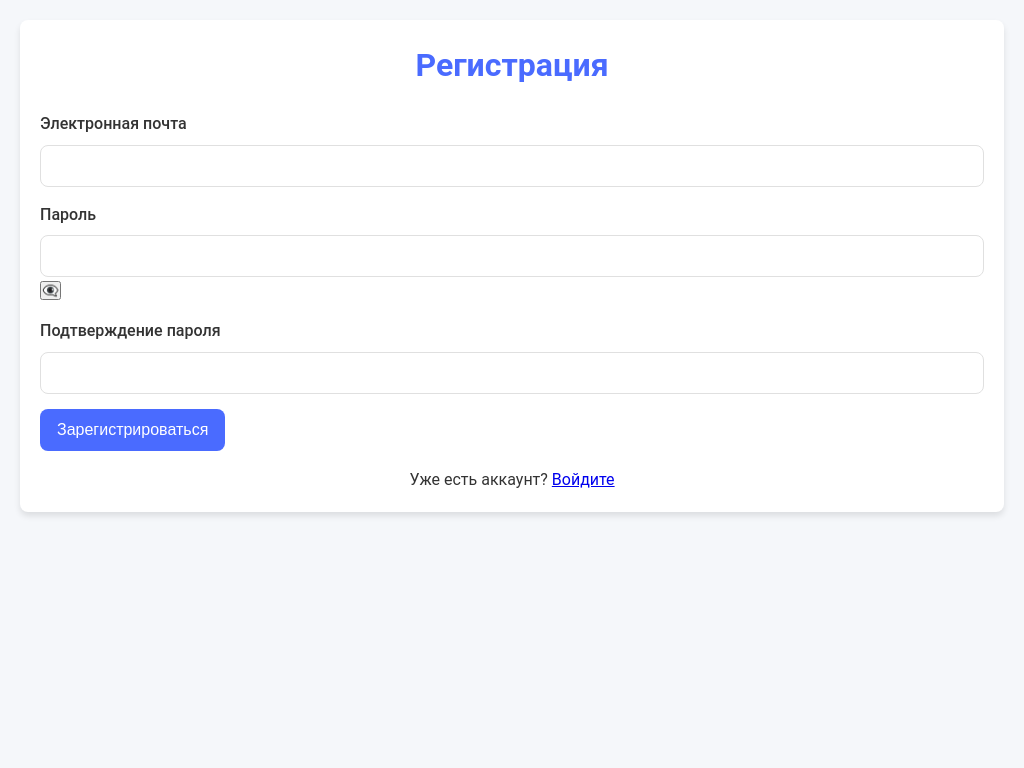
Test: Register Component › проверяет минимальную длину пароля
The image size is (1024, 768).
Заполняем Email и короткий пароль
Type "test@example.com" into the field labelled "Электронная почта". click: [512, 166]
box: [40,145,984,187]
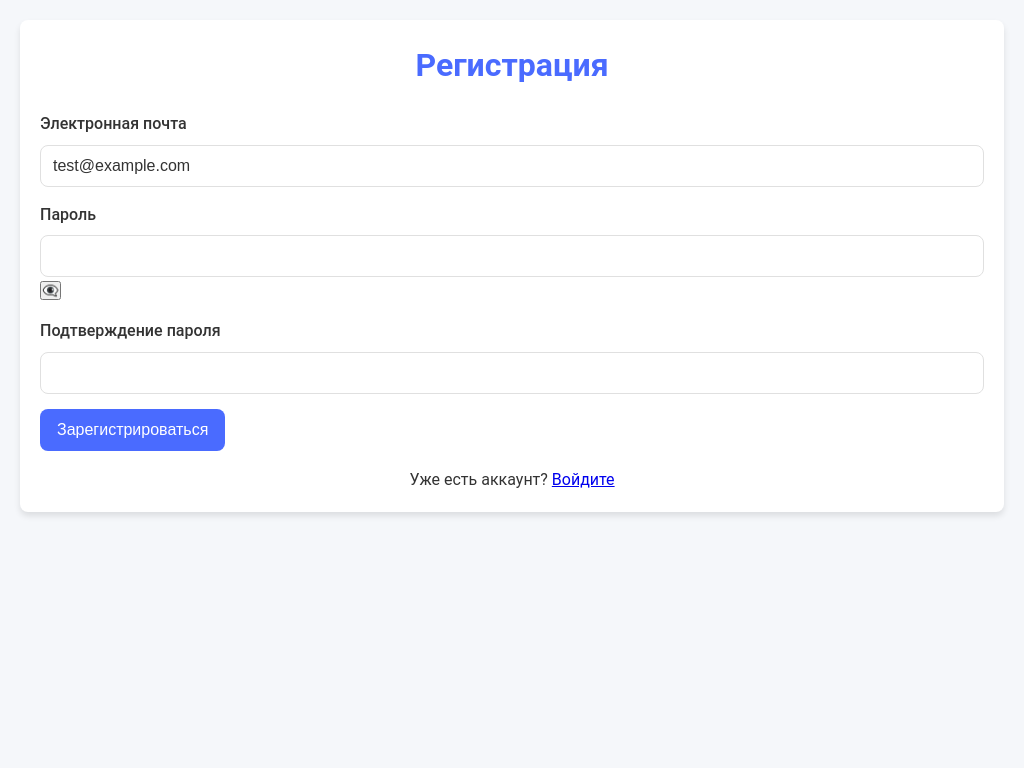
Type "123" into the password field labelled "Пароль". click: [512, 256]
box: [40,235,984,277]
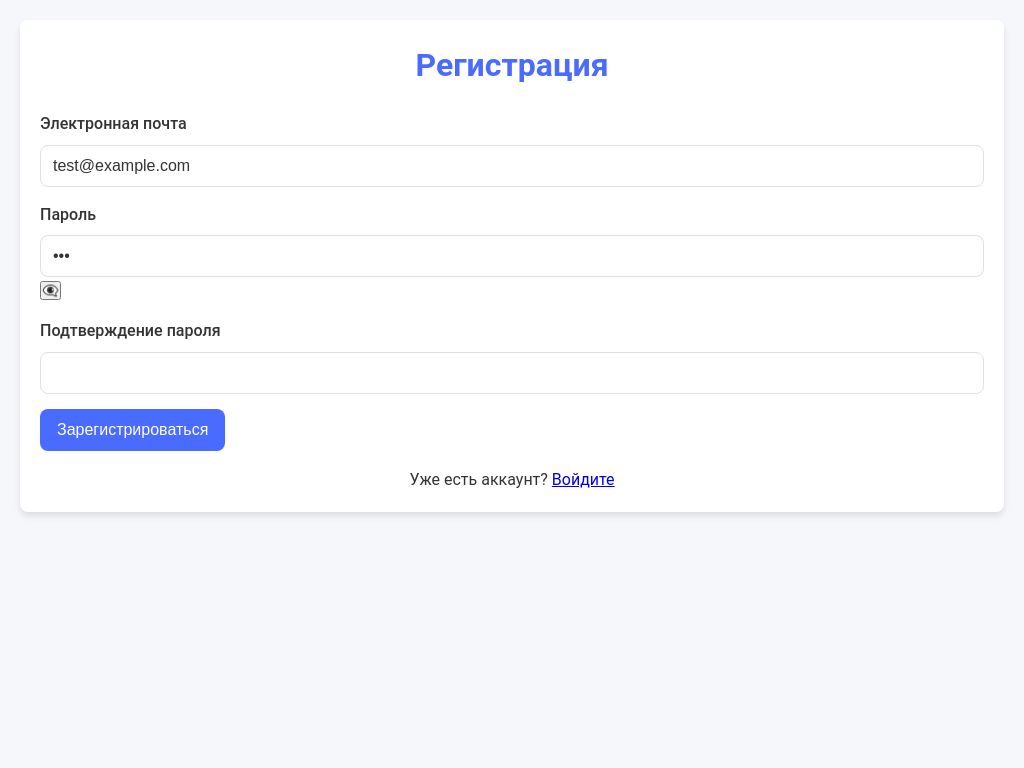
Type "123" into the password field labelled "Подтверждение пароля". click: [512, 373]
box: [40,352,984,394]
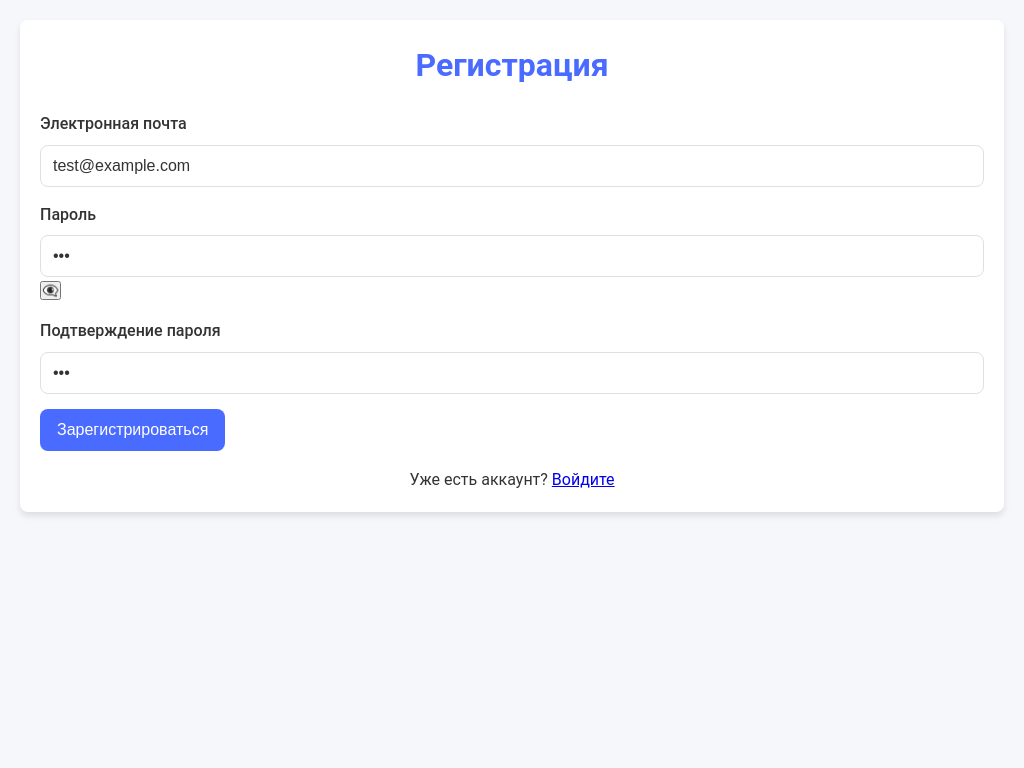
Отправляем форму
Click the button "Зарегистрироваться". click: [133, 430]
box: [40,409,225,451]
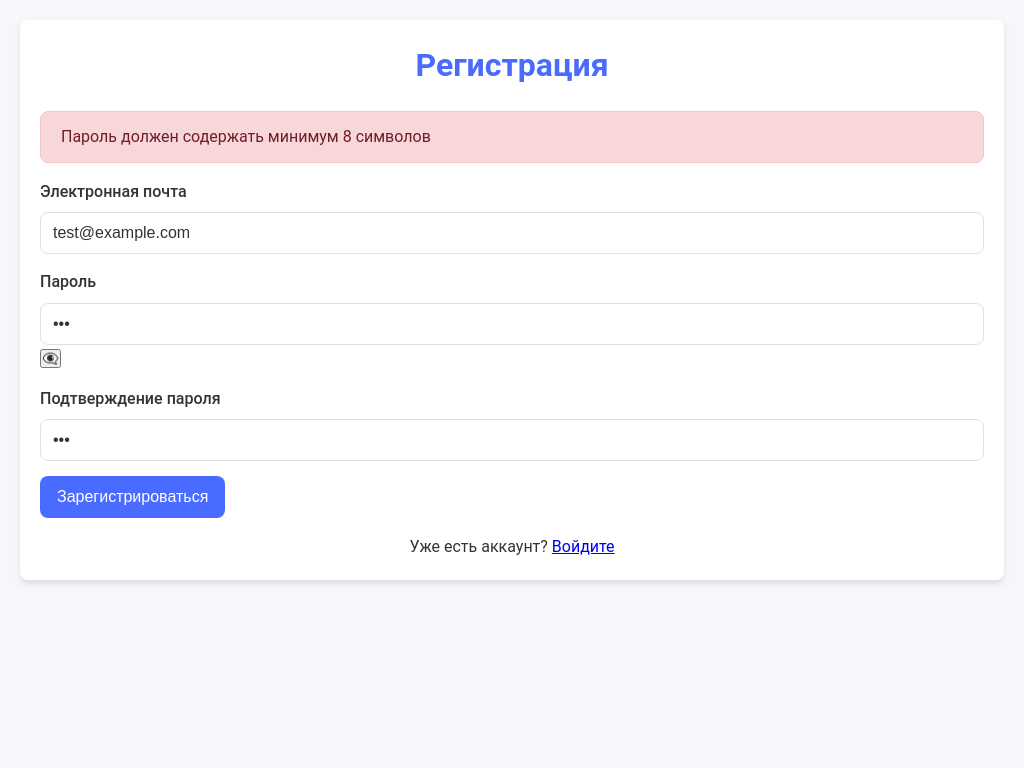
Check: the text "Пароль должен содержать минимум 8 символов" is shown, box [40,111,984,163]
